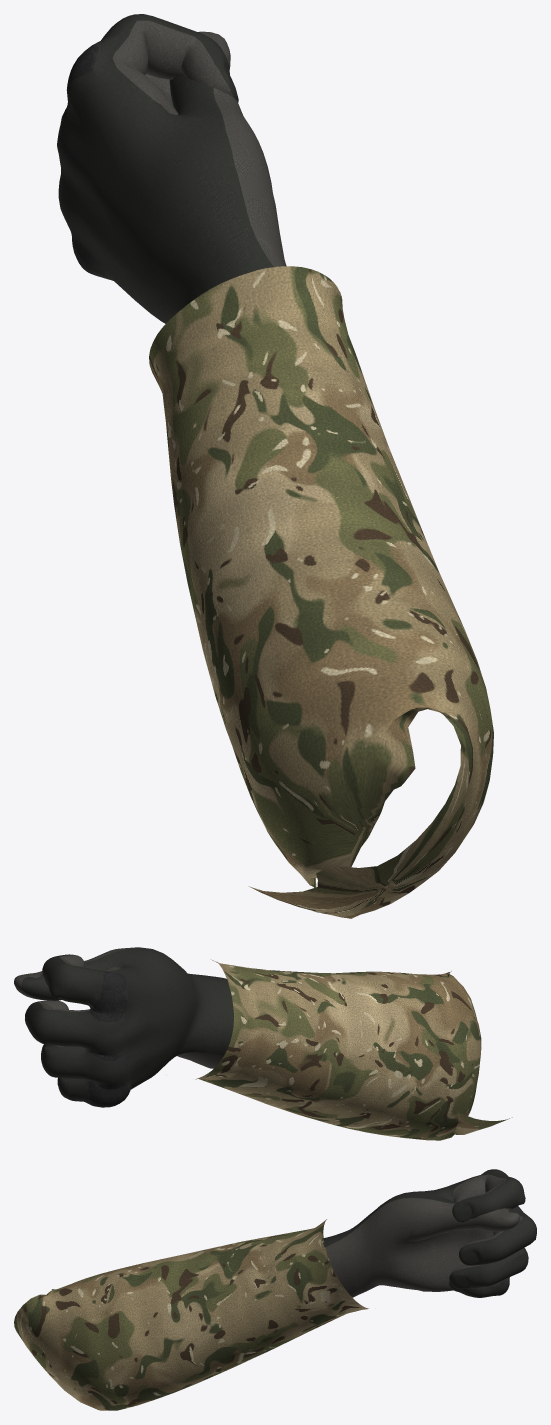
The model's file is hand_l.glb.
3 renders of one model, top to bottom at view 1: azimuth 30°, elevation 25°; view 2: azimuth 150°, elevation 25°; view 3: azimuth 270°, elevation 25°, orthographic. The views are drawn at different scales.
Parts seen in each view (by area): view 1: hand_l; view 2: hand_l; view 3: hand_l.
Boxes of the visible parts, left/top/right/bottom form: hand_l: left=57, top=14, right=493, bottom=918; hand_l: left=14, top=947, right=512, bottom=1140; hand_l: left=14, top=1169, right=536, bottom=1410.
Size of the model in its own units: 0.1594 by 0.2031 by 0.3558.
4 materials, 4 textured.
